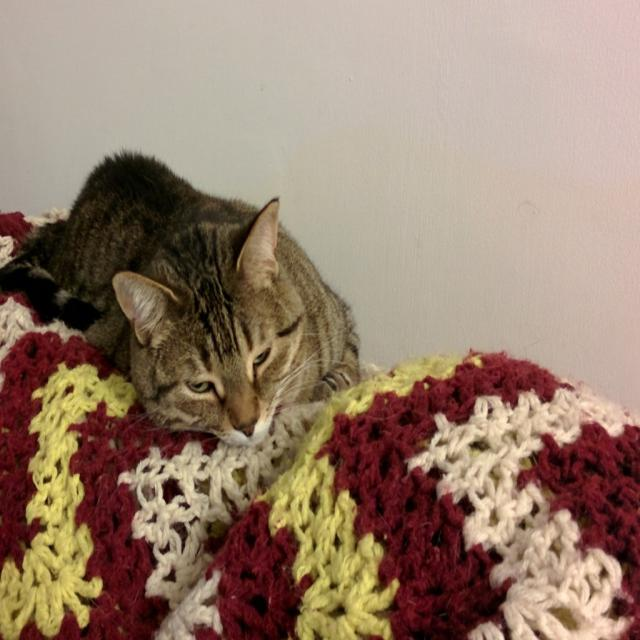Cat: (0, 141, 363, 455)
